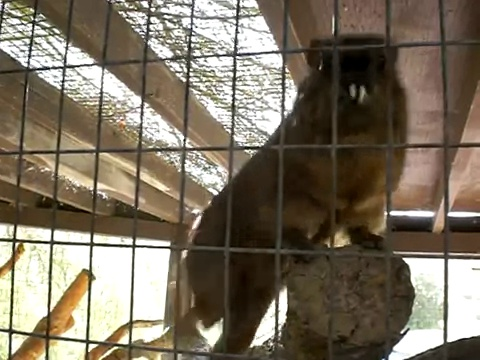Rock Hyrex: (189, 32, 407, 360)
